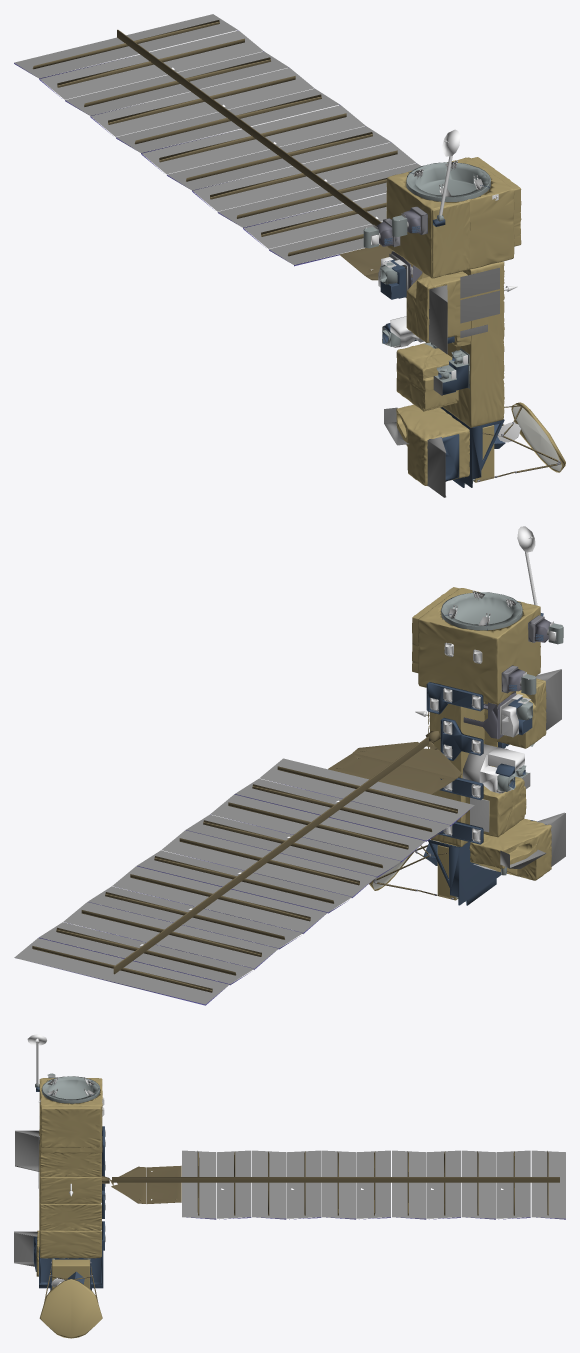
The model's file is aqua.glb.
3 renders of one model, top to bottom at view 1: azimuth 30°, elevation 25°; view 2: azimuth 150°, elevation 25°; view 3: azimuth 270°, elevation 25°, orthographic. The views are drawn at different scales.
Bounding box in the file's own units: 124 × 230 × 434.
